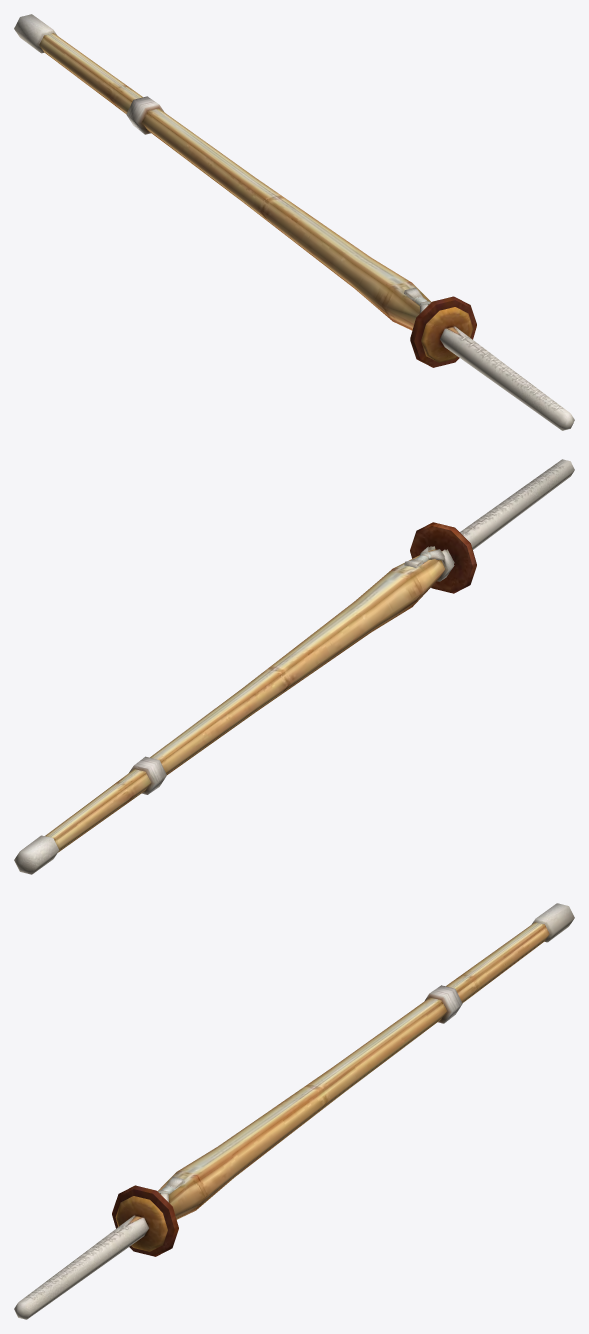
The model's file is change_musashi_little_weapon.glb.
3 renders of one model, top to bottom at view 1: azimuth 30°, elevation 25°; view 2: azimuth 150°, elevation 25°; view 3: azimuth 330°, elevation 25°, orthographic.
Size of the model in its own units: 0.0984 by 0.0936 by 1.4.
Materials: 1 (1 with a texture image).
